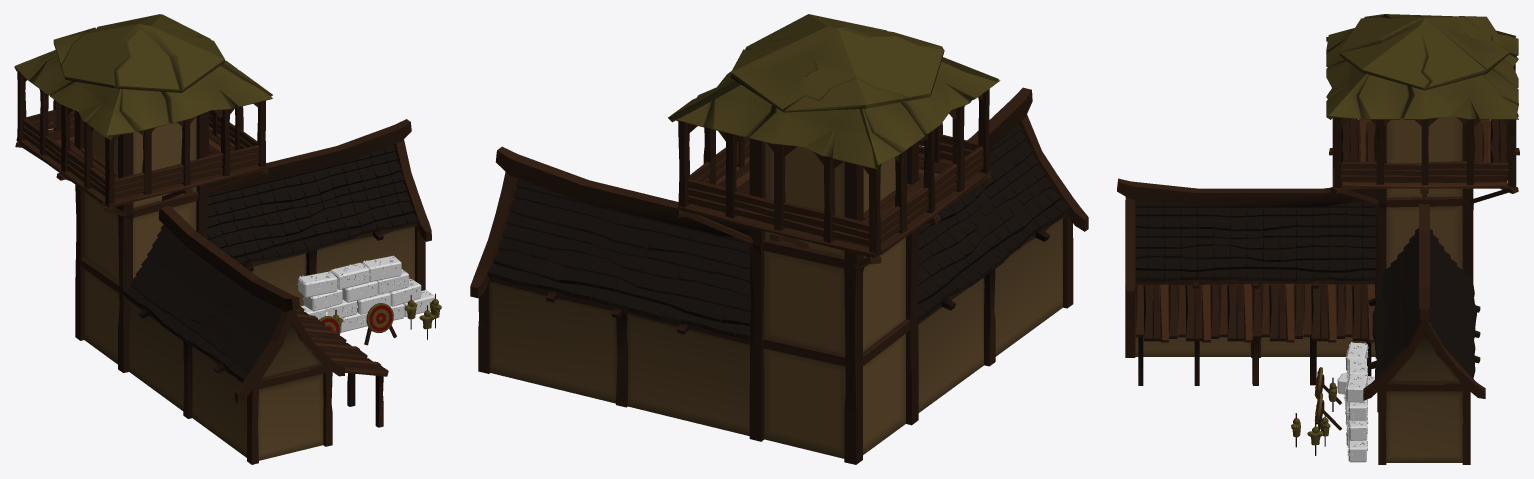
The model's file is Archers_Guild.fbx.
3 views of the same model, side by side, from view 1: azimuth 30°, elevation 25°; view 2: azimuth 150°, elevation 25°; view 3: azimuth 270°, elevation 25° (orthographic). The views are drawn at different scales.
Visible parts, largest first — view 1: Archery_Building, Haybale_LOD0, Trainings_Equip; view 2: Archery_Building; view 3: Archery_Building, Haybale_LOD0, Trainings_Equip.
Boxes of the visible parts, left/top/right/bottom form: Archery_Building: left=14, top=14, right=431, bottom=464; Haybale_LOD0: left=297, top=255, right=434, bottom=332; Trainings_Equip: left=319, top=293, right=441, bottom=345; Archery_Building: left=470, top=14, right=1088, bottom=464; Archery_Building: left=1117, top=14, right=1519, bottom=464; Haybale_LOD0: left=1337, top=342, right=1374, bottom=462; Trainings_Equip: left=1291, top=367, right=1341, bottom=455.
Size of what is drawn, in the model's own units: 309 by 273 by 309.
